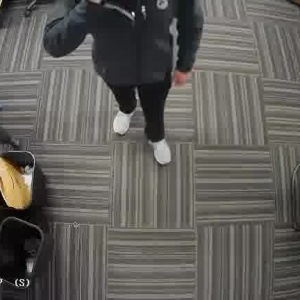person: (81, 0, 203, 170)
